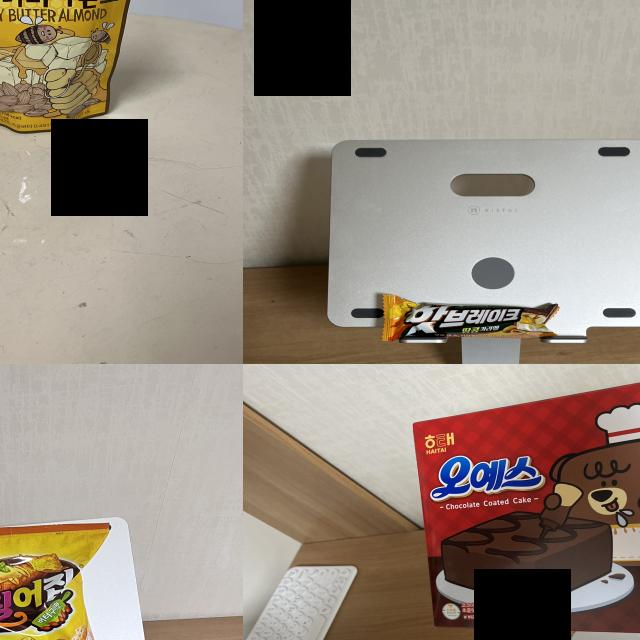honeyAmond: (0, 0, 143, 132)
hotBreak: (398, 306, 546, 336)
ohYes: (425, 419, 640, 622)
ozingZip: (0, 523, 104, 640)
